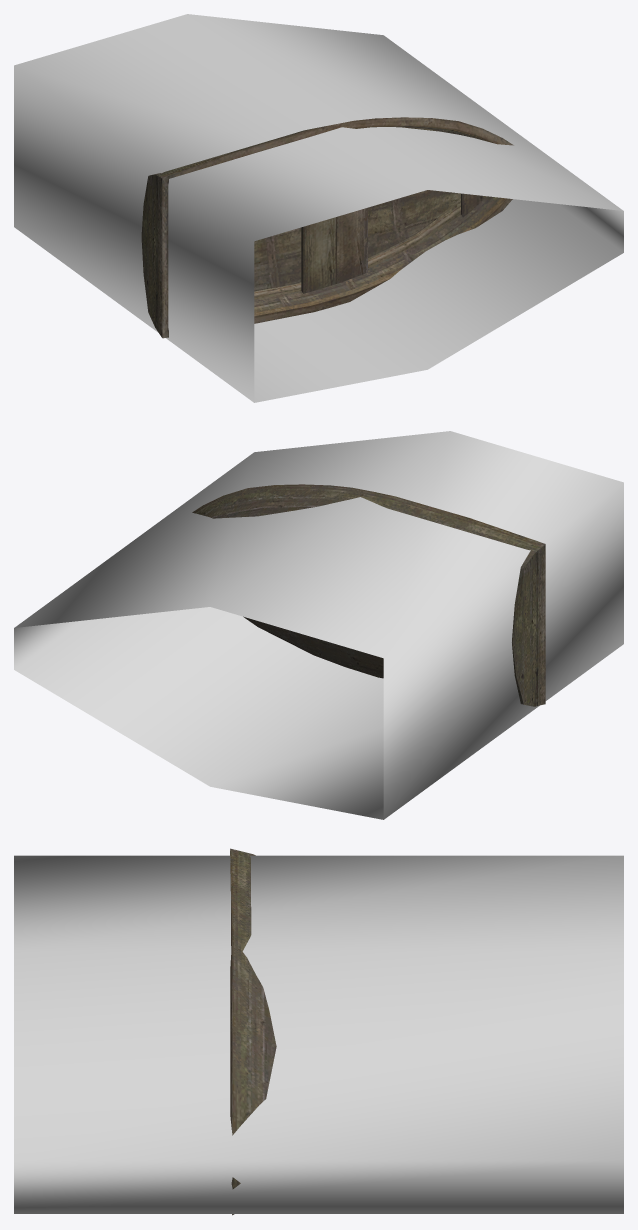
File: hd_env020_Boat1.glb
3 renders of one model, top to bottom at view 1: azimuth 30°, elevation 25°; view 2: azimuth 150°, elevation 25°; view 3: azimuth 270°, elevation 25°, orthographic. The views are drawn at different scales.
Visible parts, largest first — view 1: set_0_group_0, set_0_group_1; view 2: set_0_group_0, set_0_group_1; view 3: set_0_group_0, set_0_group_1.
Part boxes in pixels (x1=…): set_0_group_0: x1=14, y1=14, x2=623, y2=402; set_0_group_1: x1=141, y1=117, x2=513, y2=338; set_0_group_0: x1=14, y1=431, x2=623, y2=819; set_0_group_1: x1=192, y1=484, x2=545, y2=706; set_0_group_0: x1=14, y1=855, x2=623, y2=1213; set_0_group_1: x1=230, y1=848, x2=276, y2=1215.
Bounding box in the file's own units: 3.06 × 1.42 × 3.34.
2 materials, 1 textured.
